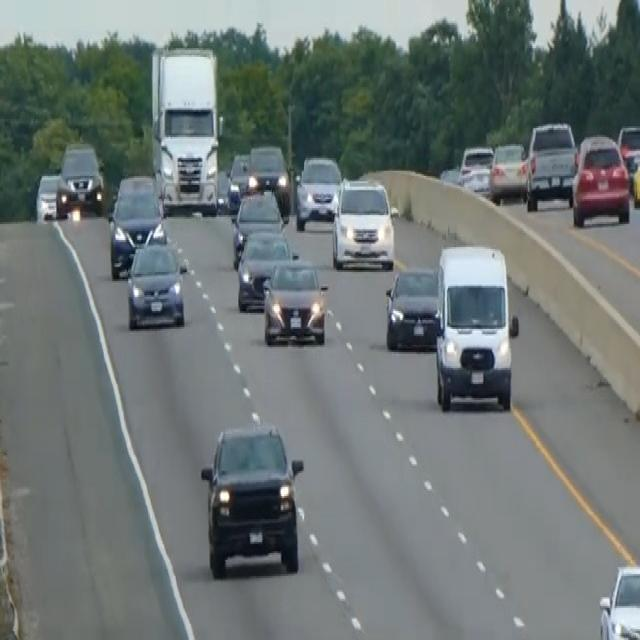car: (331, 174, 395, 270), (262, 254, 328, 345), (108, 172, 164, 278), (571, 132, 630, 228), (125, 238, 187, 329), (524, 119, 577, 210), (384, 263, 439, 350), (236, 228, 292, 311), (230, 186, 284, 266), (56, 139, 104, 215), (294, 153, 341, 229), (246, 142, 291, 215), (598, 560, 639, 638), (488, 138, 528, 202), (457, 142, 493, 196), (226, 151, 250, 210), (617, 122, 639, 186), (34, 170, 62, 220), (215, 167, 231, 212), (631, 149, 639, 210)
jeep: (199, 420, 305, 578)
lorry: (149, 43, 221, 215)
minibus: (431, 238, 520, 414)
